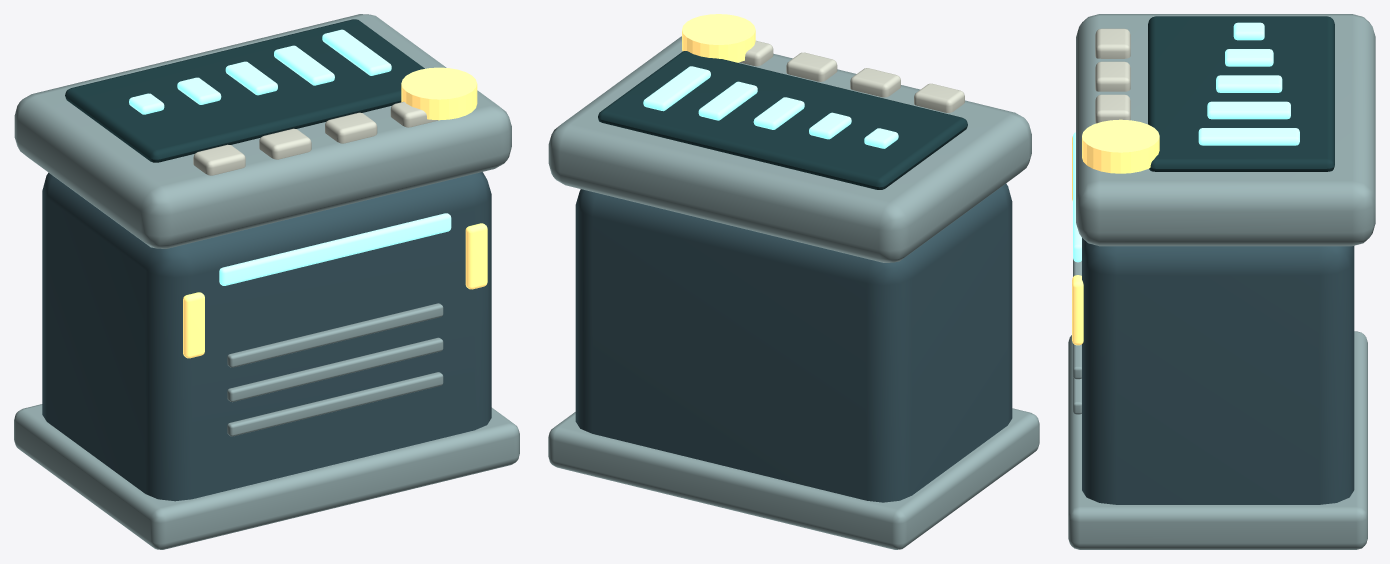
The model's file is task-console.glb.
3 renders of one model, left to right at view 1: azimuth 30°, elevation 25°; view 2: azimuth 150°, elevation 25°; view 3: azimuth 270°, elevation 25°, orthographic. The views are drawn at different scales.
Parts seen in each view (by area): view 1: Task console; view 2: Task console; view 3: Task console.
Boxes of the visible parts, x1,y1,x2,y2 form: Task console: (14,14,519,549); Task console: (548,14,1039,549); Task console: (1068,14,1375,549).
Size of the model in its own units: 1.12 by 1.1 by 0.79.
